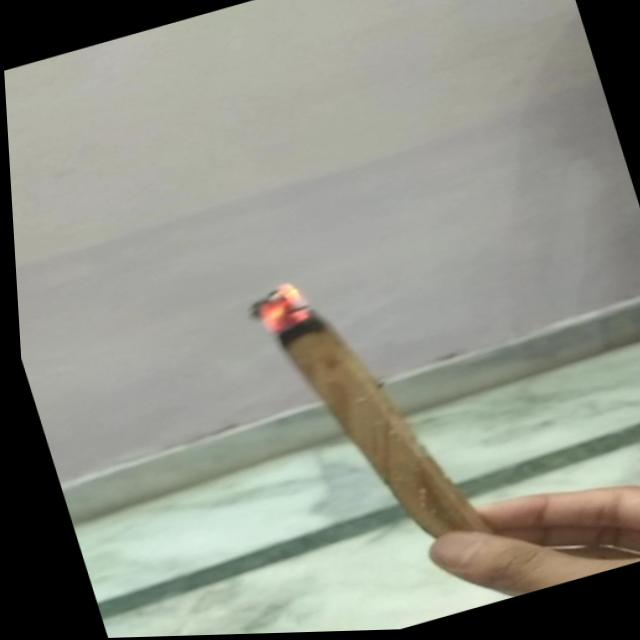fire: (219, 275, 325, 347)
